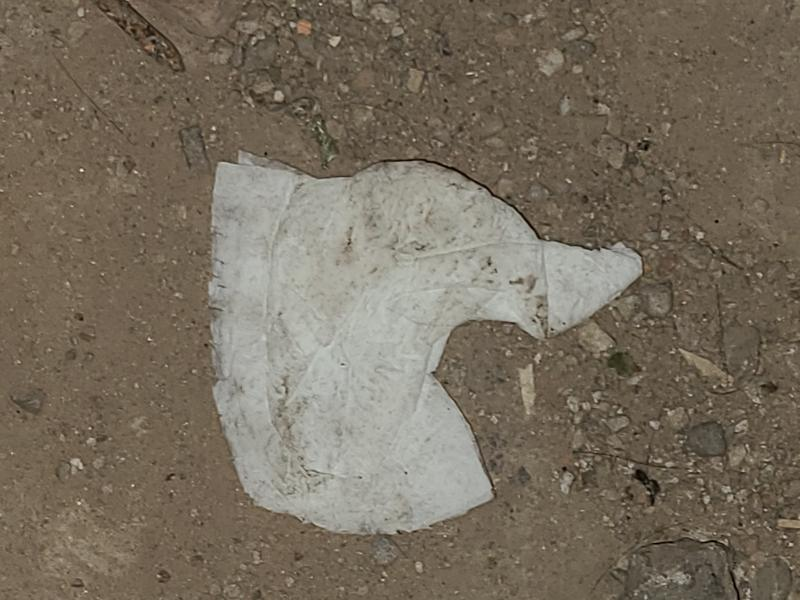papel: (207, 152, 646, 538)
